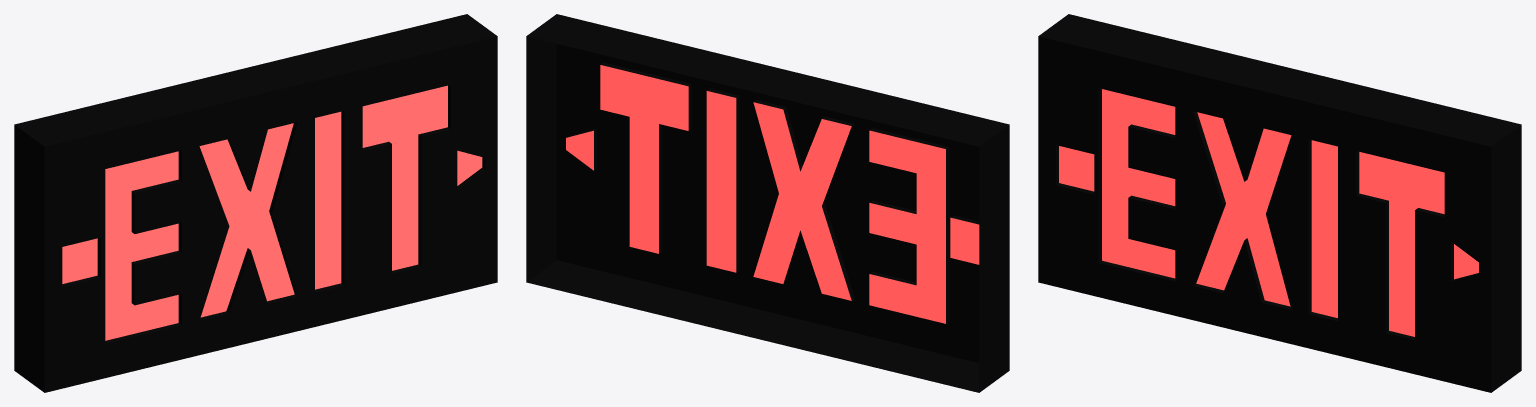
3 renders of one model, left to right at view 1: azimuth 30°, elevation 25°; view 2: azimuth 150°, elevation 25°; view 3: azimuth 330°, elevation 25°, orthographic.
Parts seen in each view (by area): view 1: Exit2; view 2: Exit2; view 3: Exit2.
Part boxes in pixels (bbox=[...]): Exit2: bbox=[14, 14, 497, 392]; Exit2: bbox=[526, 14, 1009, 392]; Exit2: bbox=[1038, 14, 1521, 392].
Size of the model in its own units: 2789 by 1448 by 325.
